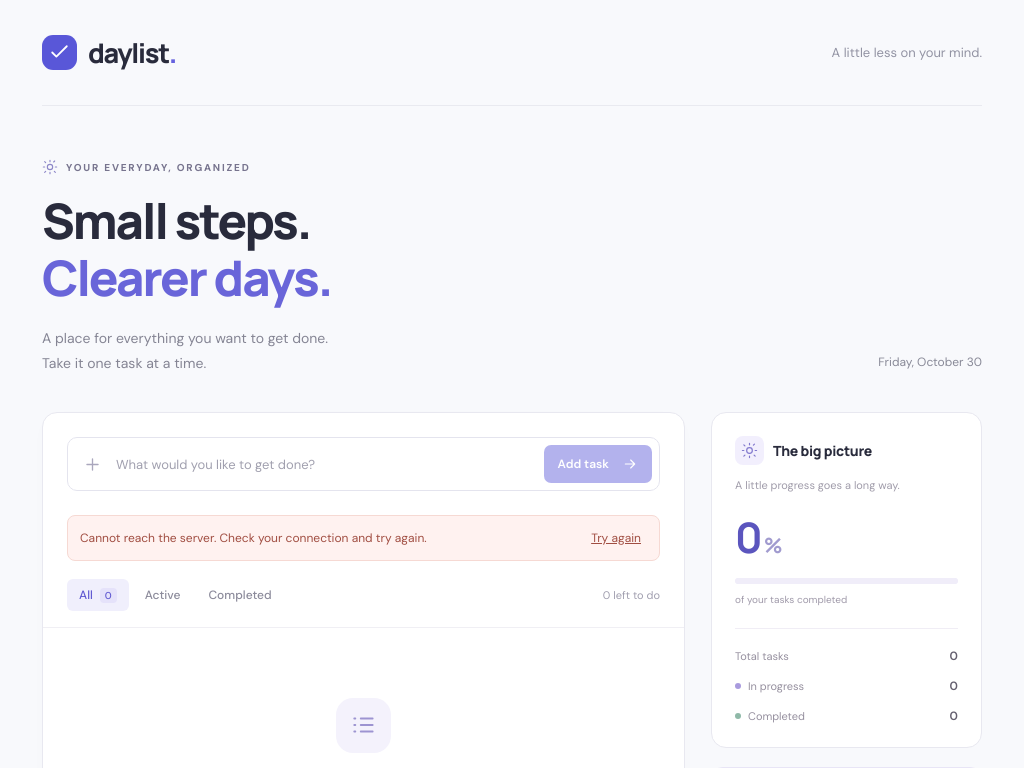
Test: task board › shows a connection error and reloads the list on retry
The image size is (1024, 768).
Expected: the message shows "Cannot reach the server", [80, 530, 427, 546]
Expected: the field named "New task" is disabled, [114, 447, 532, 481]
Click the button "Try again".
click(616, 538)  # box [585, 528, 647, 548]
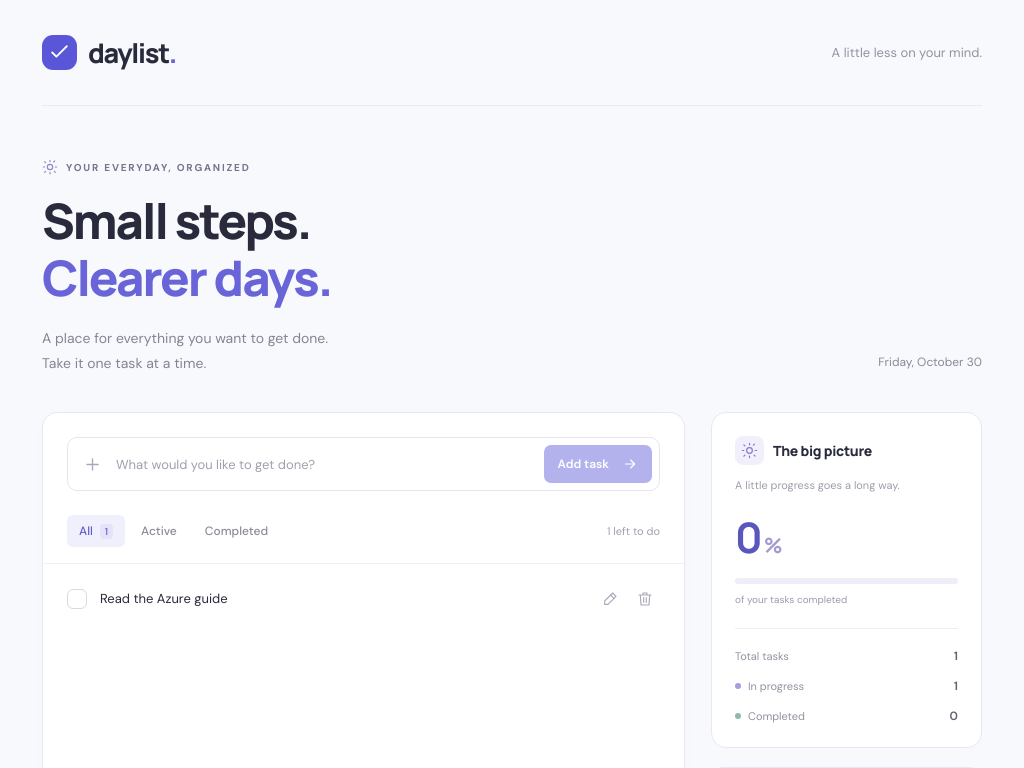
Expected: the field named "New task" is enabled, [114, 447, 532, 481]
Result: the text "Read the Azure guide" is shown at [100, 590, 228, 607]
